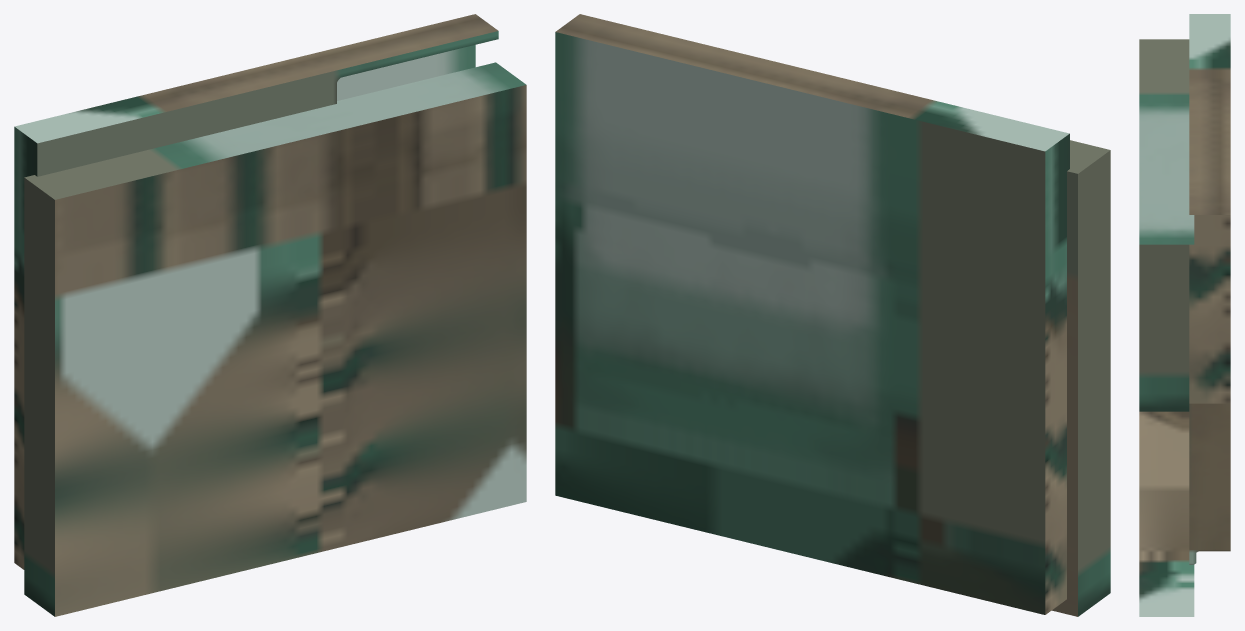
File: section-4.obj
3 renders of one model, left to right at view 1: azimuth 30°, elevation 25°; view 2: azimuth 150°, elevation 25°; view 3: azimuth 270°, elevation 25°, orthographic. The views are drawn at different scales.
Bounding box in the file's own units: 0.9345 × 0.8528 × 0.1753.
